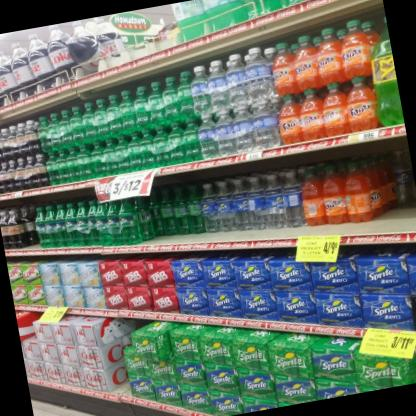empty_space: (107, 5, 181, 70), (396, 201, 416, 235)
